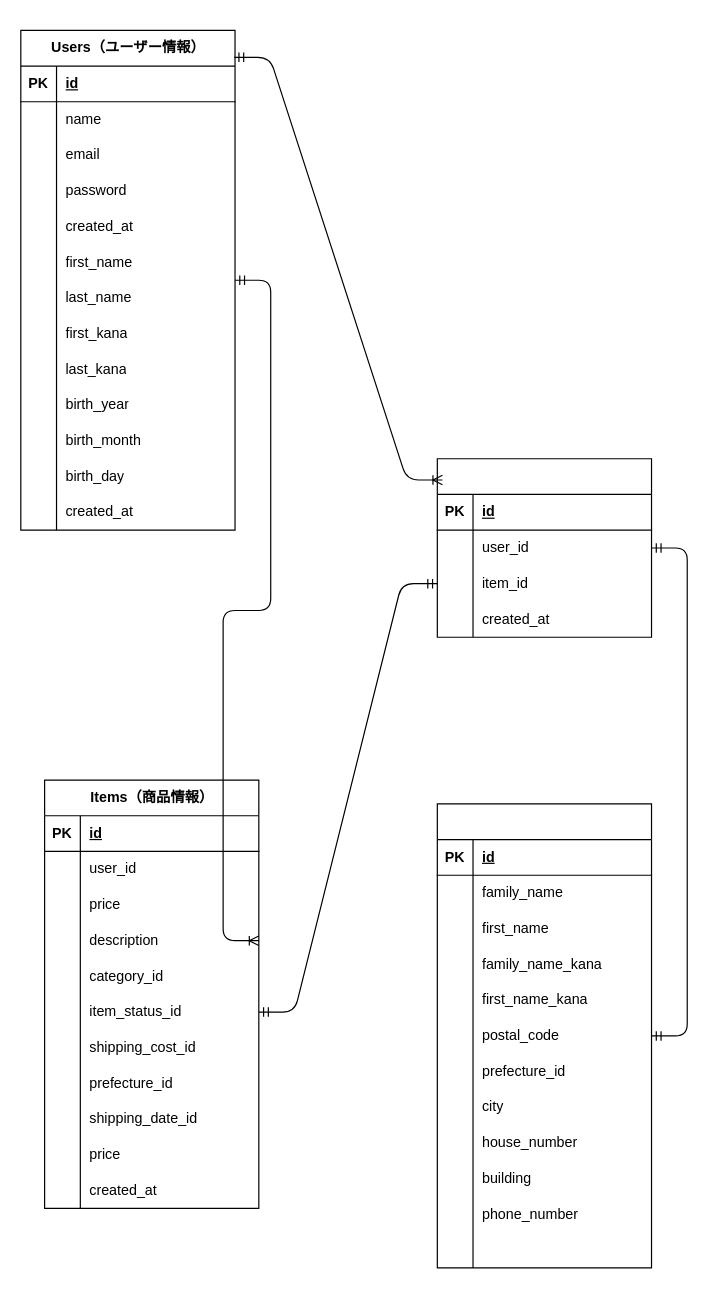
This 719x1289 diagram has some shape labels left out. The shapes that lost their labels are listed below. From the top down, each one's box as (x1, y1, x2, y2) in pixels, then its label:
(436, 458, 652, 637): Purchases（購入記録）
(436, 803, 652, 1268): ShippingAddresses（発送先情報）
